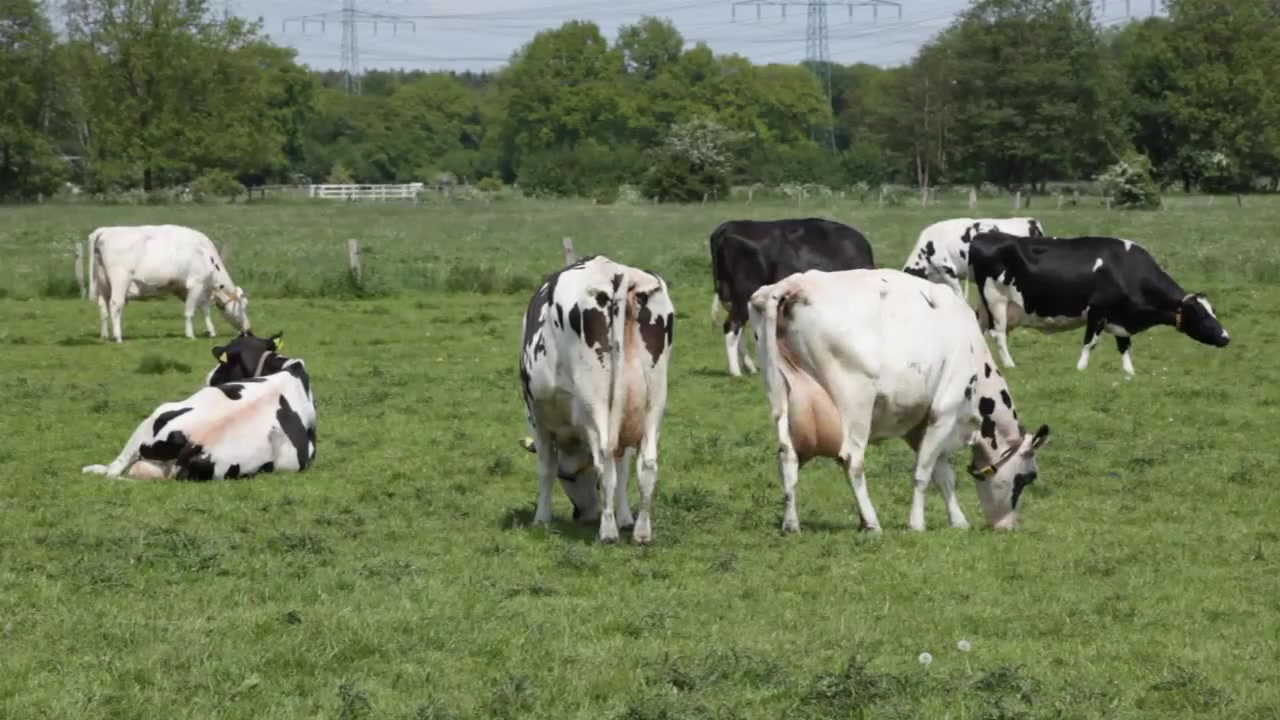cow: (516, 259, 677, 552)
